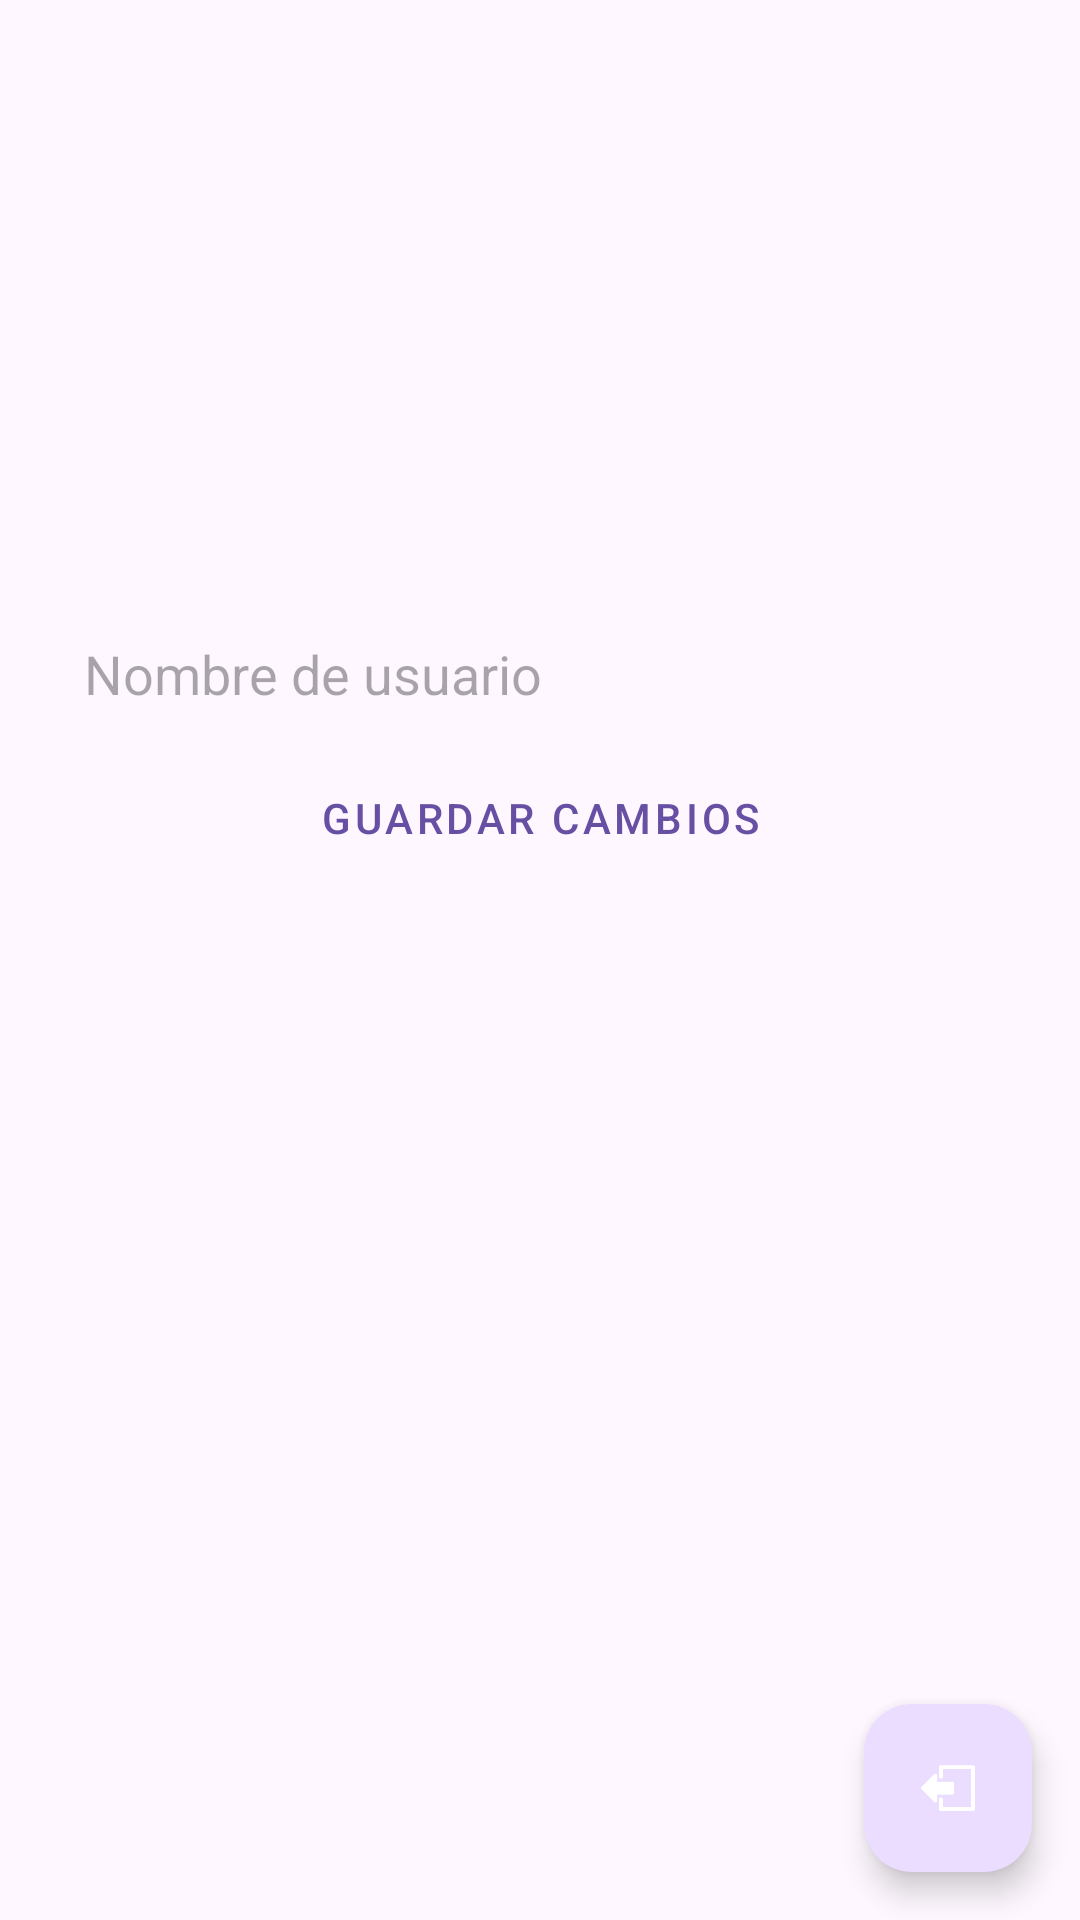

Where icons sit on this 1080 × 1920 app screen, as {"left": x1, "top": y1, "right": x2, "bottom": y2}:
Cerrar sesión: {"left": 864, "top": 1704, "right": 1032, "bottom": 1872}
